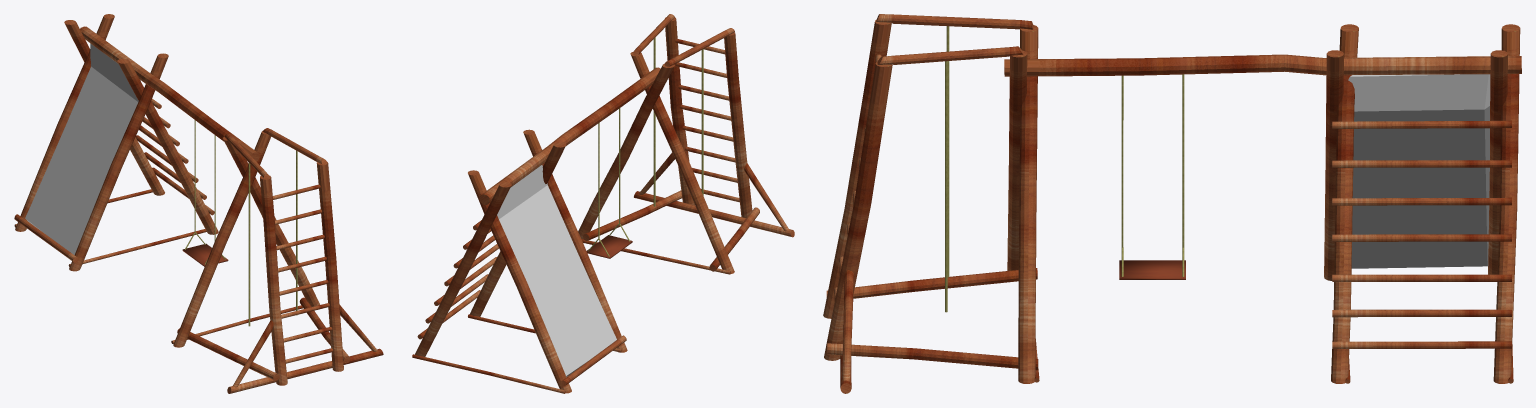
The model's file is parquinho3.fbx.
The picture shows the model from 3 angles, left to right: view 1: azimuth 30°, elevation 25°; view 2: azimuth 150°, elevation 25°; view 3: azimuth 270°, elevation 25°; orthographic projection. The views are drawn at different scales.
Visible parts, largest first — view 1: Cube.009, Cube.002; view 2: Cube.009, Cube.002; view 3: Cube.009, Cube.002.
Part boxes in pixels (box(x1,y1,x2,y2)): Cube.009: box(14, 14, 383, 393); Cube.002: box(25, 43, 140, 254); Cube.009: box(412, 14, 794, 393); Cube.002: box(497, 165, 616, 376); Cube.009: box(823, 14, 1521, 393); Cube.002: box(1348, 74, 1490, 268).
Bounding box in the file's own units: 233 × 291 × 603.
